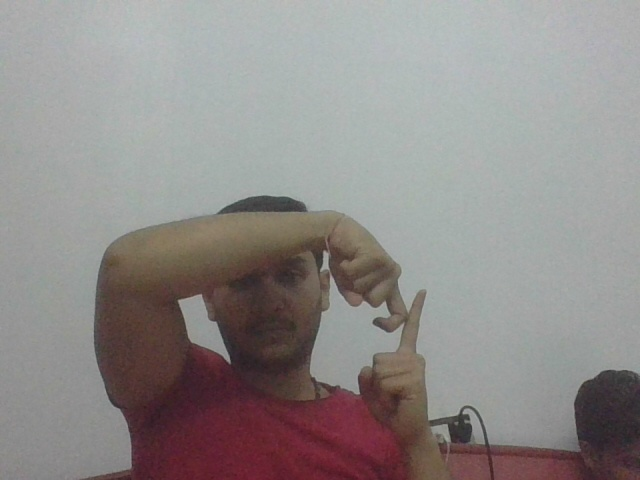K: (369, 270, 435, 368)
